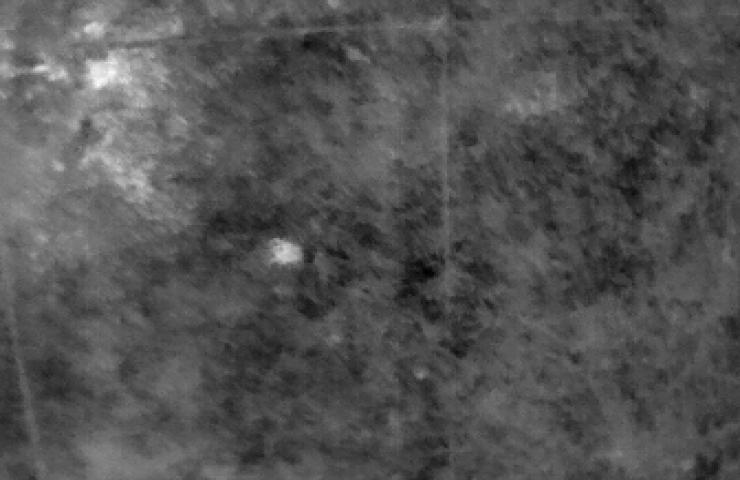landmines: (269, 238, 304, 267)
